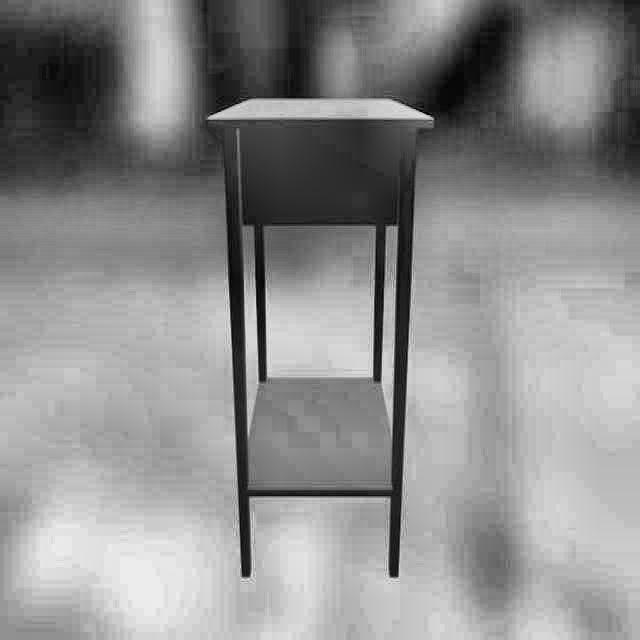mesa: (212, 97, 432, 580)
